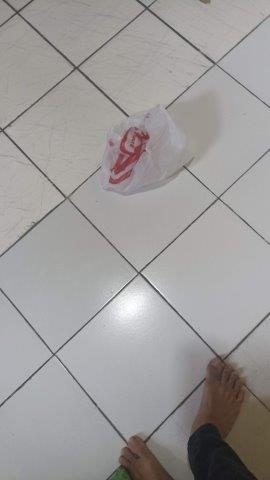plastik: (100, 106, 197, 191)
